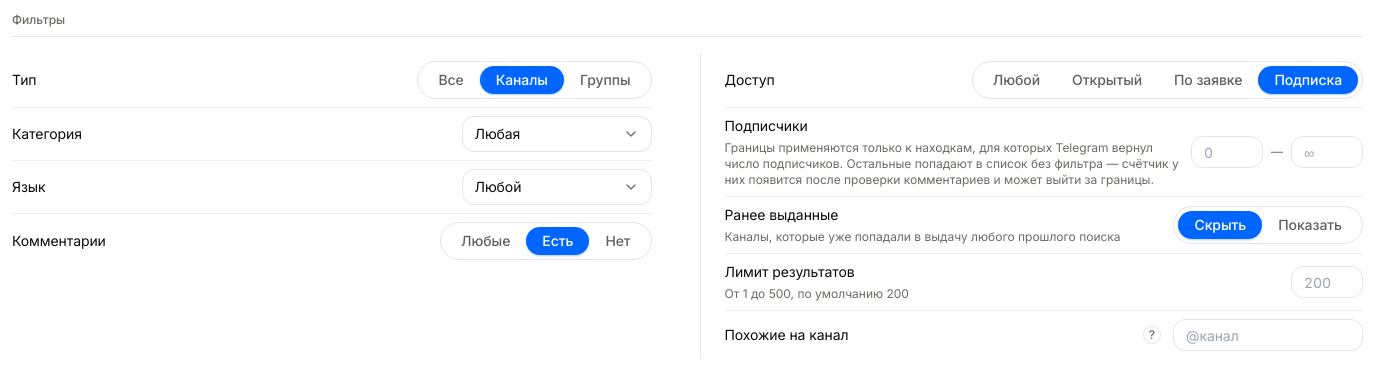
DiscoveryFilters › switching to groups disables comments and subscription and normalises the state
Click the radio button labelled "Группы": (605,80) [564, 66, 646, 94]
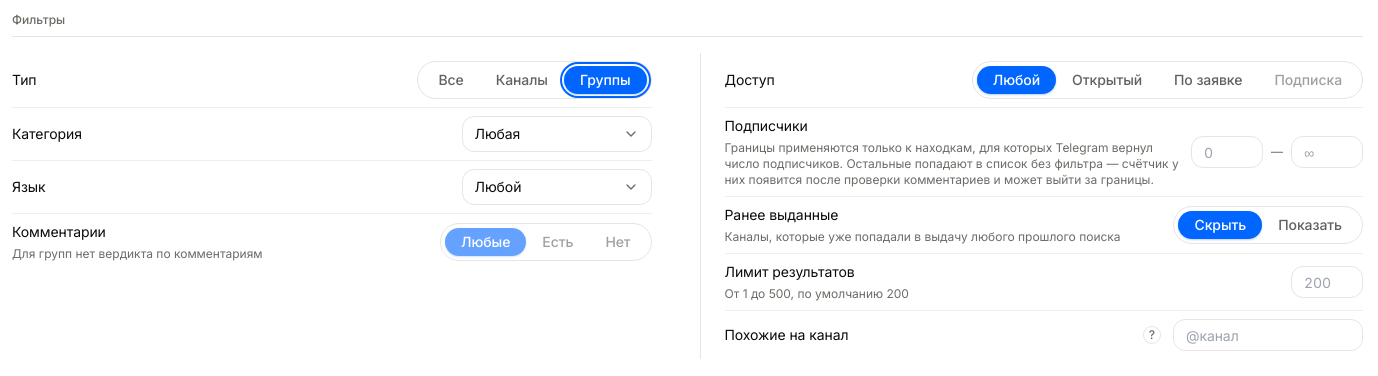
Check: the radio button labelled "Любые" is disabled, box [445, 228, 526, 256]
Check: the radio button labelled "Есть" is disabled, box [526, 228, 589, 256]
Check: the radio button labelled "Нет" is disabled, box [589, 228, 646, 256]
